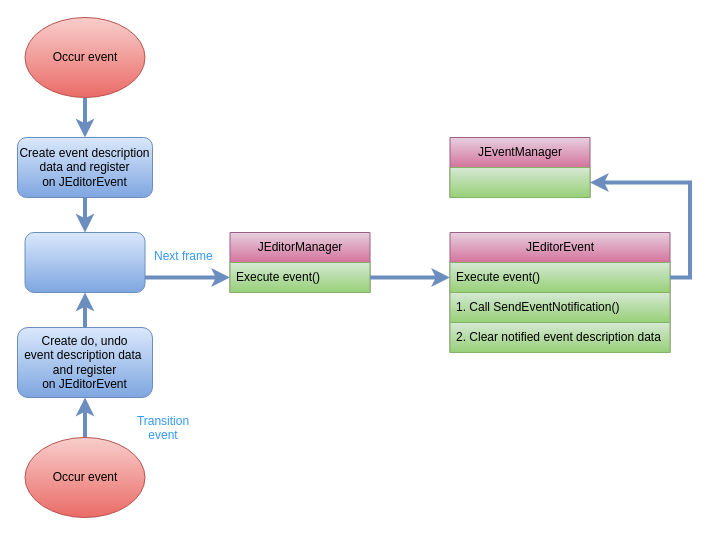
This 717x535 diagram has some shape labels left out. The shapes that lost their labels are listed below. From the top down, each one's centre as x and y in pixels, then its label:
At (x=519, y=182): "SendEventNotification()".
At (x=84, y=262): "Push event queue".
